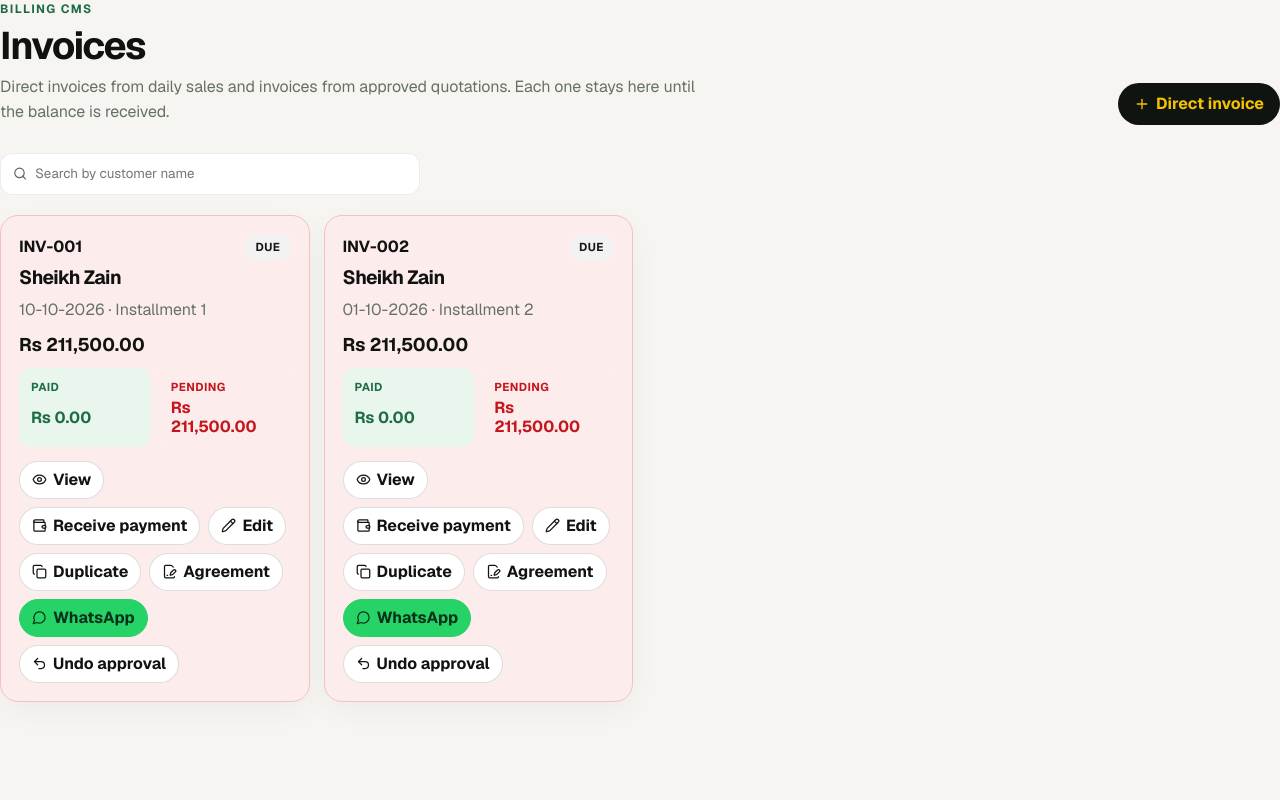
an installment pending invoice opens the dates and guarantor form
Expected: the button "Edit" below "10-10-2026 · Installment 1" is shown, x1=208 y1=507 x2=286 y2=545
Click the button "Agreement" below "10-10-2026 · Installment 1": [216, 572] box x1=149 y1=553 x2=283 y2=591
(page scrolled)
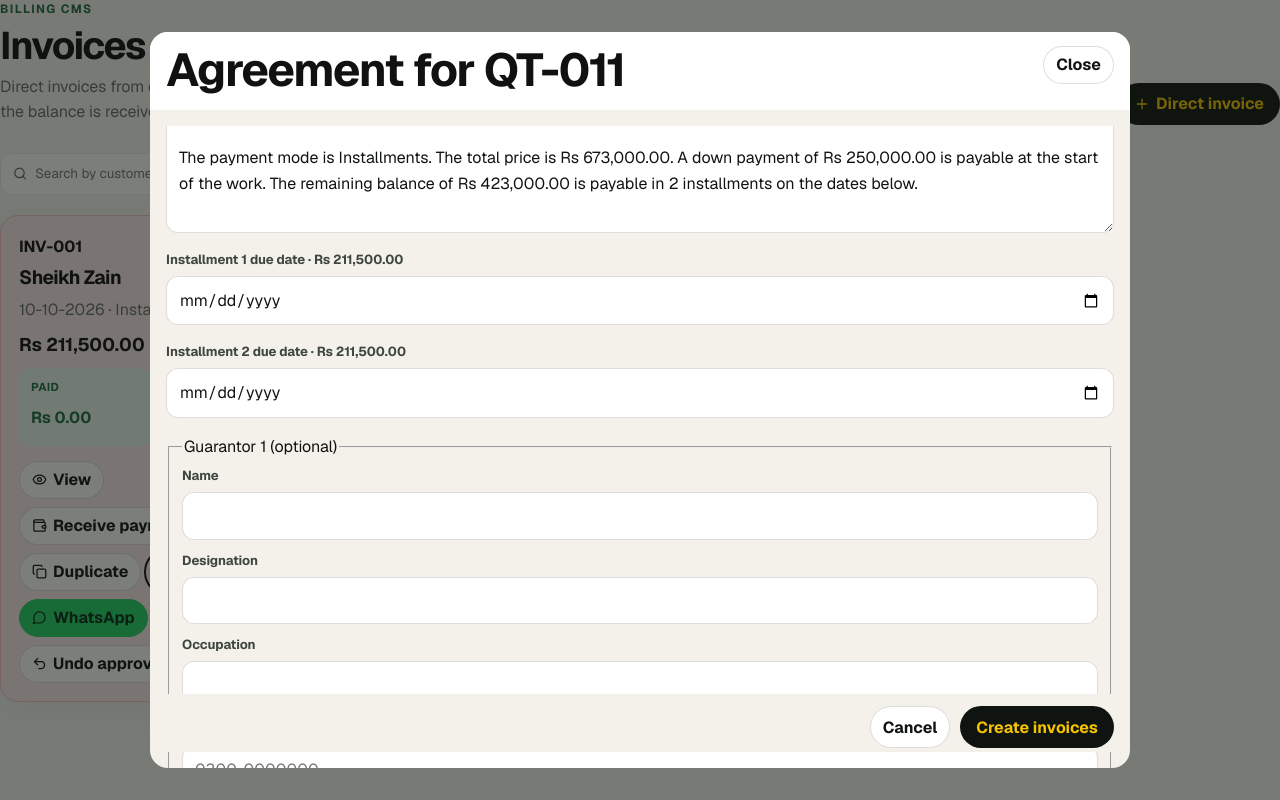
Expected: the text "Installment 1 due date · Rs 211,500.00" is shown, x1=166 y1=251 x2=403 y2=268
Expected: the text "Guarantor 1 (optional)" is shown, x1=182 y1=434 x2=339 y2=460
